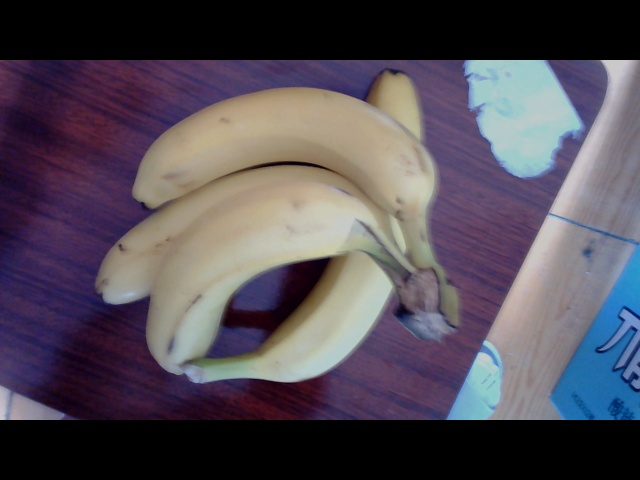banana: (115, 64, 454, 377)
